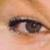eye: (26, 22, 41, 33)
